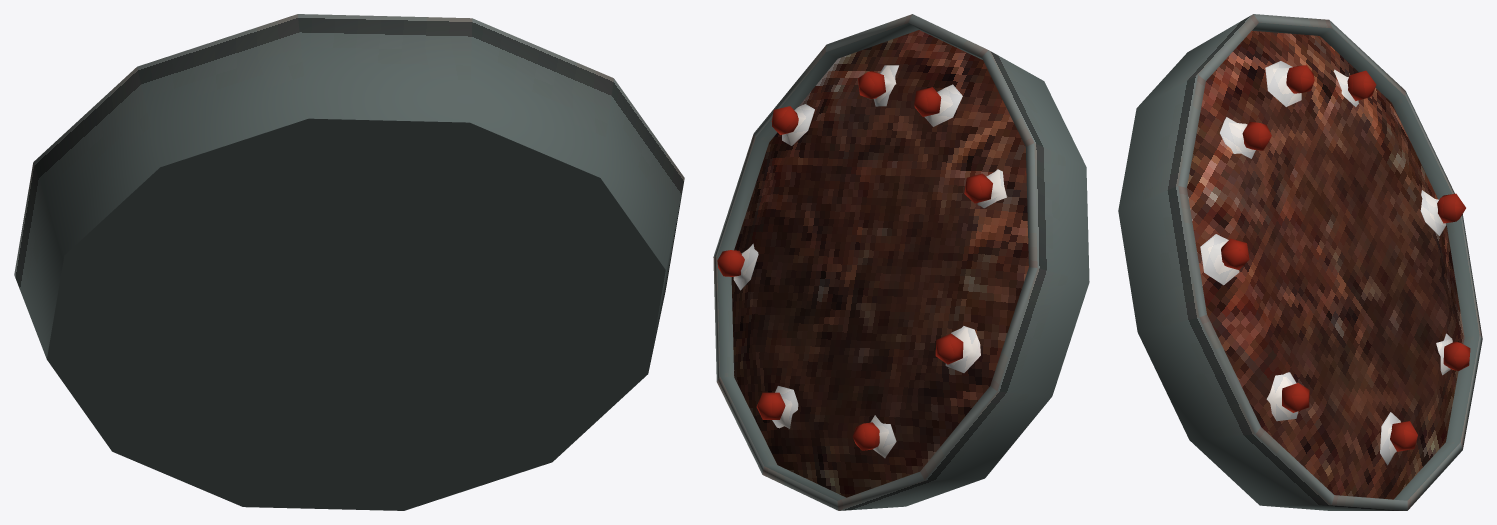
File: H_CakePan_BlackForest.fbx
The picture shows the model from 3 angles, left to right: view 1: azimuth 30°, elevation 25°; view 2: azimuth 150°, elevation 25°; view 3: azimuth 270°, elevation 25°; orthographic projection. The views are drawn at different scales.
Parts seen in each view (by area): view 1: Cake.001; view 2: Cake.001; view 3: Cake.001.
Boxes of the visible parts, x1,y1,x2,y2 form: Cake.001: (14, 14, 684, 510); Cake.001: (713, 14, 1089, 510); Cake.001: (1118, 14, 1482, 510).
Bounding box in the file's own units: 49.35 × 48.68 × 36.67.
